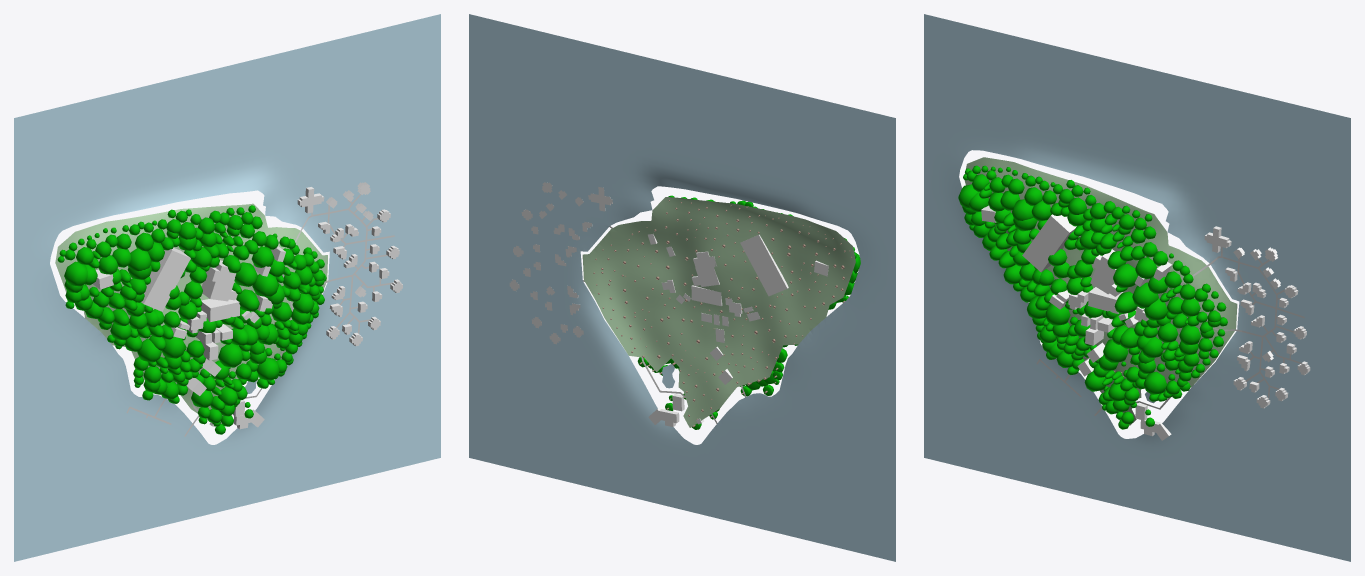
The model's file is kawasan-pantai.glb.
3 renders of one model, left to right at view 1: azimuth 30°, elevation 25°; view 2: azimuth 150°, elevation 25°; view 3: azimuth 330°, elevation 25°, orthographic.
Visible parts, largest first — view 1: TPX_Waterways_2, TPX_Buildings, TPX_GreenAreas, TPX_RoadsOutlines; view 2: TPX_Waterways_2, TPX_GreenAreas, TPX_Buildings; view 3: TPX_Waterways_2, TPX_Buildings, TPX_GreenAreas, TPX_RoadsOutlines.
Boxes of the visible parts, x1,y1,x2,y2 form: TPX_Waterways_2: (14,14,440,561); TPX_Buildings: (93,182,402,429); TPX_GreenAreas: (55,203,327,423); TPX_RoadsOutlines: (126,194,394,436); TPX_Waterways_2: (469,14,895,561); TPX_GreenAreas: (582,197,855,427); TPX_Buildings: (509,182,828,426); TPX_Waterways_2: (924,14,1350,561); TPX_Buildings: (981,205,1310,440); TPX_GreenAreas: (964,157,1237,425); TPX_RoadsOutlines: (1036,247,1304,415).
Size of the model in its own units: 552 by 548 by 53.93.
